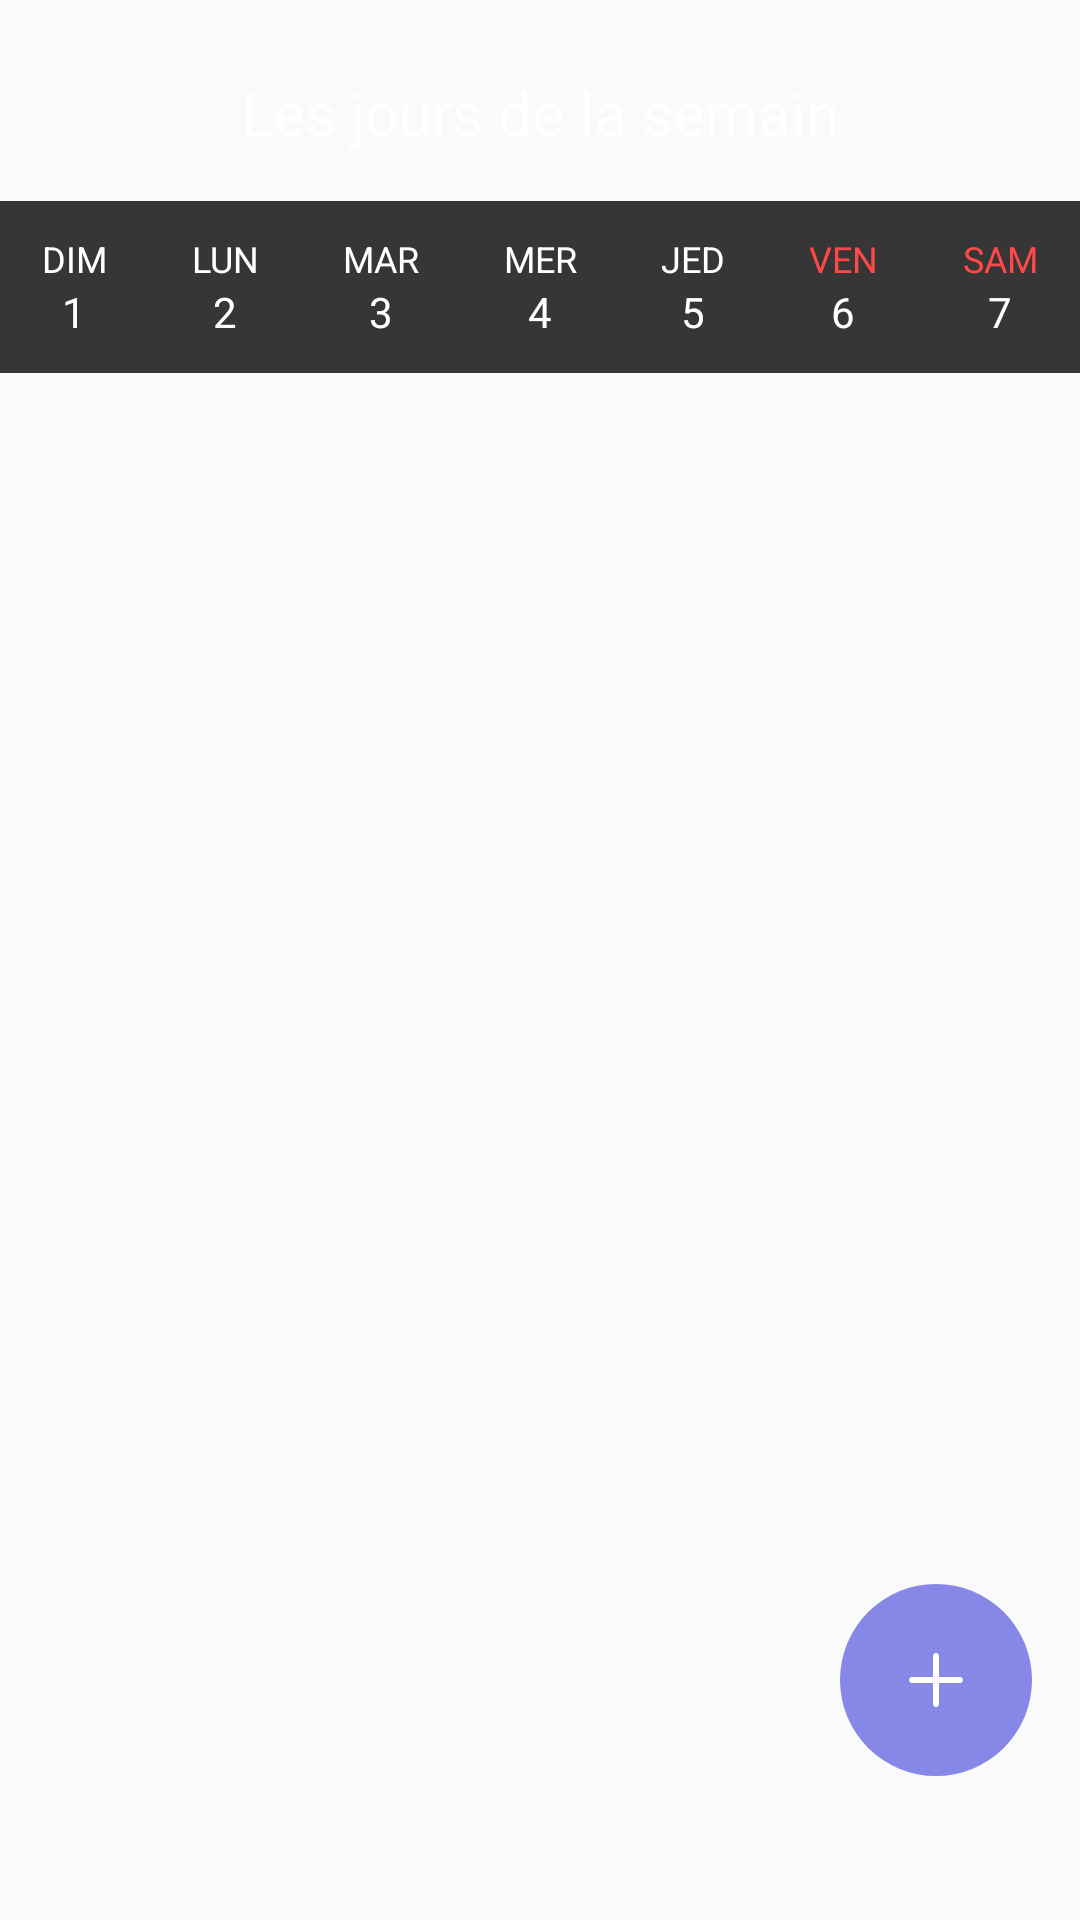

Point at icon controls on the screen. Image size 1080 × 1920, points as point (x, y).
add: point (936, 1680)
